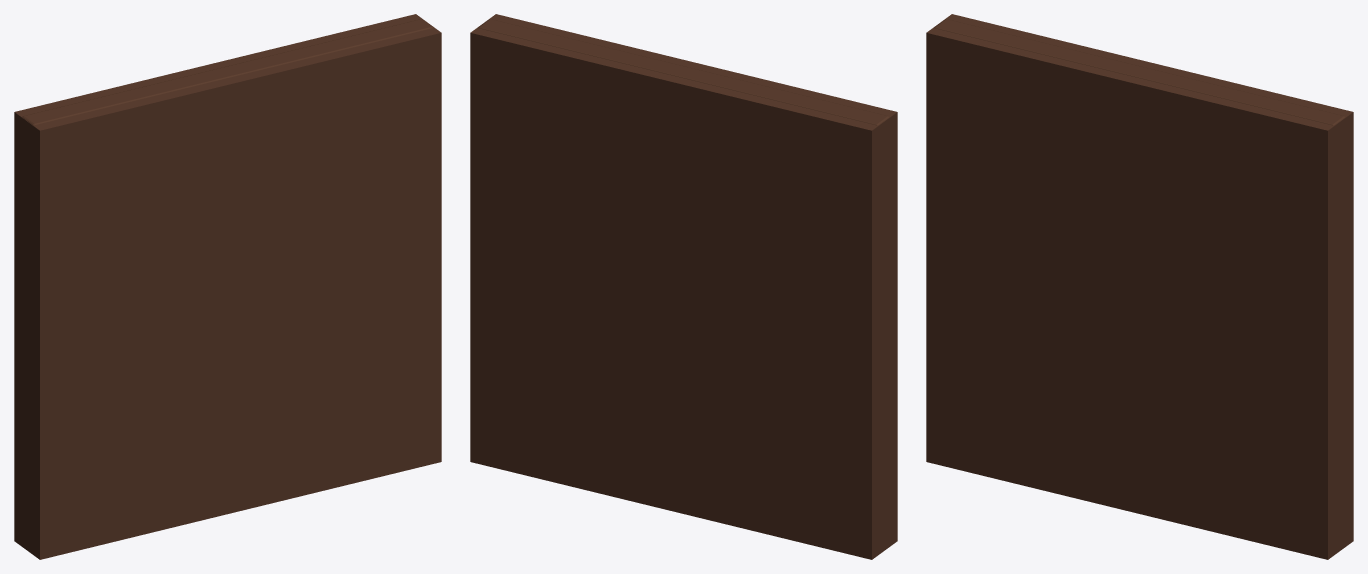
File: env-board-a.glb
3 views of the same model, side by side, from view 1: azimuth 30°, elevation 25°; view 2: azimuth 150°, elevation 25°; view 3: azimuth 330°, elevation 25° (orthographic).
Parts seen in each view (by area): view 1: COL_board, VIS_frame_top, VIS_post_w; view 2: COL_board, VIS_frame_top, VIS_post_w; view 3: COL_board, VIS_frame_top, VIS_post_e.
Boxes of the visible parts, left/top/right/bottom form: COL_board: left=14, top=14, right=441, bottom=559; VIS_frame_top: left=22, top=19, right=433, bottom=140; VIS_post_w: left=21, top=249, right=32, bottom=552; COL_board: left=470, top=14, right=897, bottom=559; VIS_frame_top: left=478, top=19, right=889, bottom=139; VIS_post_w: left=879, top=249, right=890, bottom=552; COL_board: left=926, top=14, right=1353, bottom=559; VIS_frame_top: left=934, top=19, right=1345, bottom=139; VIS_post_e: left=1335, top=249, right=1346, bottom=552.
Size of the model in its own units: 2.35 by 2.4 by 0.26.
